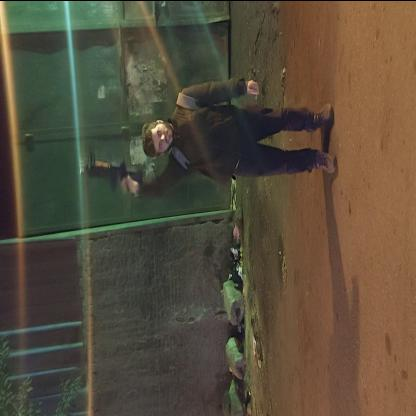long weapon: (75, 143, 147, 199)
